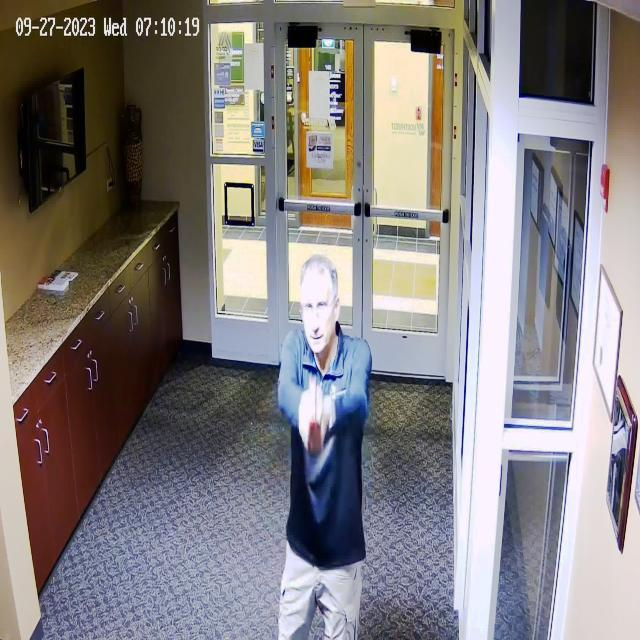Gun: (299, 377, 341, 461)
